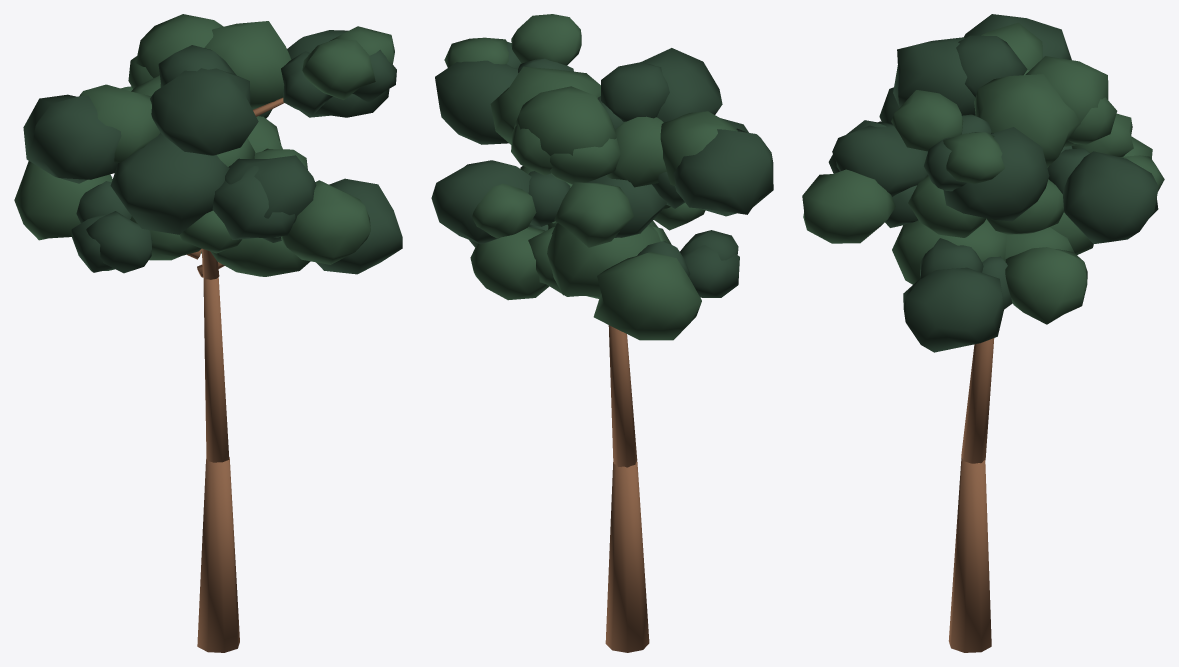
Rendered from node_tree_pine_2.glb.
3 views of the same model, side by side, from view 1: azimuth 30°, elevation 25°; view 2: azimuth 150°, elevation 25°; view 3: azimuth 270°, elevation 25° (orthographic).
Visible parts, largest first — view 1: blob.027, blob.037, cyl, blob.025, blob.014, blob.030, blob.010, cyl.001, blob.015, blob.003, blob.013, blob.026 (+14 smaller); view 2: blob.010, cyl, blob.025, blob.040, blob.031, blob.008, blob.021, blob, blob.018, blob.037, blob.039, blob.030 (+16 smaller); view 3: blob.003, blob.021, cyl, blob.030, blob.031, blob.014, blob, blob.013, blob.037, blob.032, blob.004, blob.040 (+16 smaller).
Part boxes in pixels (bbox=[...]): blob.027: bbox=[110, 132, 229, 234]; blob.037: bbox=[150, 68, 258, 155]; cyl: bbox=[197, 457, 239, 652]; blob.025: bbox=[23, 94, 121, 183]; blob.014: bbox=[281, 180, 370, 264]; blob.030: bbox=[204, 21, 291, 109]; blob.010: bbox=[14, 161, 112, 240]; cyl.001: bbox=[203, 277, 229, 462]; blob.015: bbox=[212, 165, 295, 239]; blob.003: bbox=[316, 178, 402, 274]; blob.013: bbox=[225, 155, 316, 237]; blob.026: bbox=[79, 84, 159, 162]; blob.010: bbox=[593, 252, 701, 340]; cyl: bbox=[605, 461, 649, 652]; blob.025: bbox=[673, 128, 773, 216]; blob.040: bbox=[514, 86, 616, 155]; blob.031: bbox=[435, 60, 518, 144]; blob.008: bbox=[547, 223, 660, 298]; blob.021: bbox=[431, 160, 531, 244]; blob: bbox=[470, 226, 549, 300]; blob.018: bbox=[554, 182, 633, 247]; blob.037: bbox=[640, 48, 722, 122]; blob.039: bbox=[601, 62, 669, 121]; blob.030: bbox=[490, 66, 600, 144]; blob.003: bbox=[903, 267, 1004, 352]; blob.021: bbox=[1063, 151, 1158, 243]; cyl: bbox=[948, 458, 991, 652]; blob.030: bbox=[974, 74, 1079, 167]; blob.031: bbox=[943, 127, 1049, 221]; blob.014: bbox=[802, 169, 895, 243]; blob: bbox=[1005, 247, 1087, 324]; blob.013: bbox=[832, 121, 927, 196]; blob.037: bbox=[893, 37, 975, 115]; blob.032: bbox=[891, 90, 963, 151]; blob.004: bbox=[892, 219, 1006, 284]; blob.040: bbox=[1025, 56, 1108, 146].
Size of the model in its own units: 5.76 by 9.58 by 5.28.
